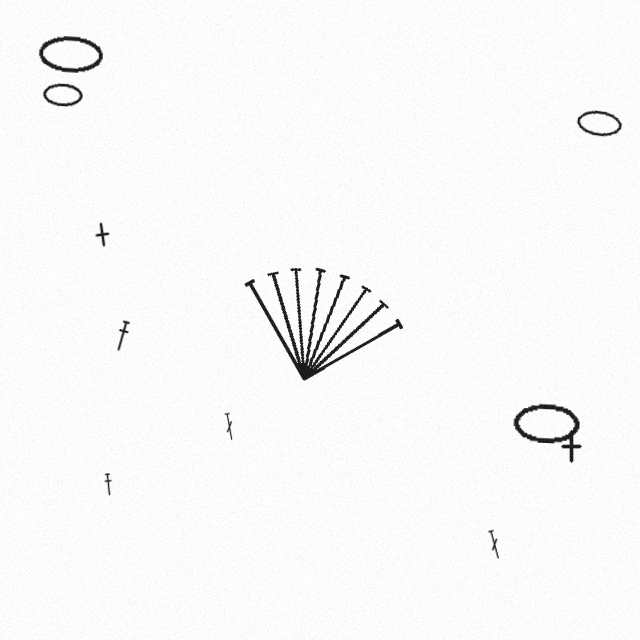chain: (512, 402, 580, 444), (37, 34, 105, 75), (575, 108, 623, 139), (42, 82, 83, 108)
double: (486, 529, 503, 560), (223, 412, 236, 441)
fan: (219, 234, 421, 405)
half_double: (112, 319, 132, 353), (103, 473, 114, 496)
single: (554, 429, 589, 464), (88, 220, 117, 249)
